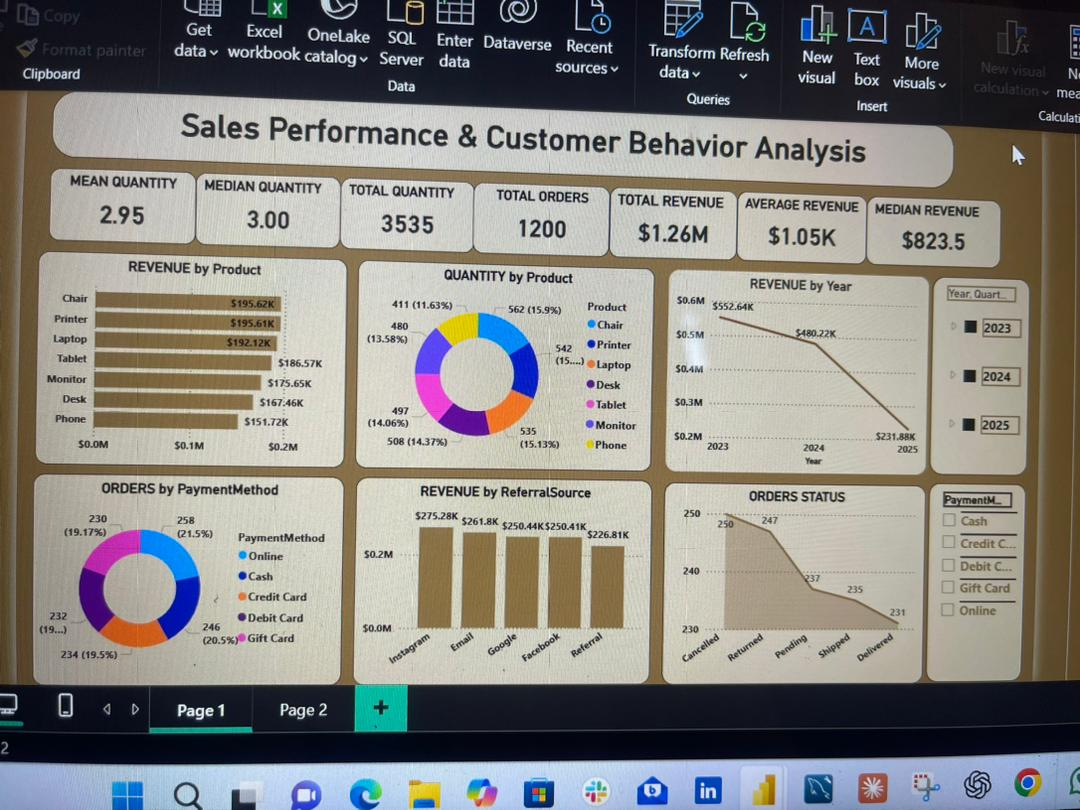

What the dashboard file says about the page in this screenshot:
{"tool":"powerbi","page":{"name":"Page 1","canvas":[1280,720],"ordinal":0},"visuals":[{"type":"card","title":"MEAN QUANTITY","fields":{"Values":["Sheet1.MEAN QUANTITY"]},"box":[32.5,94.3,172.4,87.8],"z":0},{"type":"card","title":"MEDIAN QUANTITY","fields":{"Values":["Sheet1.MEDIAN QUANTITY"]},"box":[204.9,94.3,174,87.8],"z":1000},{"type":"card","title":"TOTAL QUANTITY","fields":{"Values":["Sheet1.TOTAL QUANTITY"]},"box":[379,94.3,164.3,87.8],"z":2000},{"type":"card","title":"TOTAL ORDERS","fields":{"Values":["Sheet1.TOTAL NO OF ORDERS"]},"box":[541.6,94.3,170.8,87.8],"z":3000},{"type":"card","title":"TOTAL REVENUE","fields":{"Values":["Sum(Sheet1.TotalPrice)"]},"box":[712.4,94.3,162.7,87.8],"z":4000},{"type":"card","title":"AVERAGE REVENUE","fields":{"Values":["Sheet1.AVERAGE REVENUE"]},"box":[875.1,94.3,169.2,87.8],"z":5000},{"type":"card","title":"MEDIAN REVENUE","fields":{"Values":["Sheet1.MEDIAN REVENUE"]},"box":[1044.2,94.3,178.9,87.8],"z":6000},{"type":"textbox","box":[32.5,0,1125.6,81.3],"z":7000},{"type":"barChart","title":"REVENUE by Product","fields":{"Y":["Sum(Sheet1.TotalPrice)"],"Category":["Sheet1.Product"]},"box":[21.1,195.2,367.6,257],"z":8000},{"type":"donutChart","title":"QUANTITY by Product","fields":{"Y":["Sum(Sheet1.QUANTITY)"],"Category":["Sheet1.Product"]},"box":[401.8,195.2,369.2,257],"z":9000},{"type":"donutChart","title":"ORDERS by PaymentMethod","fields":{"Y":["Sheet1.TOTAL ORDERS"],"Category":["Sheet1.PaymentMethod"]},"box":[19.5,463.6,369.2,257],"z":10000},{"type":"columnChart","title":" REVENUE by ReferralSource","fields":{"Y":["Sum(Sheet1.TotalPrice)"],"Category":["Sheet1.ReferralSource"]},"box":[403.4,463.6,369.2,257],"z":11000},{"type":"lineChart","title":" REVENUE by Year","fields":{"Y":["Sum(Sheet1.TotalPrice)"],"Category":["Sheet1.Date.Variation.Date Hierarchy.Year","Sheet1.Date.Variation.Date Hierarchy.Month"]},"box":[788.9,195.2,339.9,257],"z":12000},{"type":"slicer","fields":{"Values":["Sheet1.Date.Variation.Date Hierarchy.Year","Sheet1.Date.Variation.Date Hierarchy.Quarter","Sheet1.Date.Variation.Date Hierarchy.Month","Sheet1.Date.Variation.Date Hierarchy.Day"]},"box":[1133.7,195.2,130.1,255.4],"z":13000},{"type":"slicer","fields":{"Values":["Sheet1.PaymentMethod"]},"box":[1134.5,462.1,129.3,256.9],"z":14000},{"type":"areaChart","title":" ORDERS STATUS","fields":{"Category":["Sheet1.OrderStatus"],"Y":["Sheet1.TOTAL ORDERS"]},"box":[788.9,465.2,339.9,255.4],"z":15000}]}

Visuals, with their boxes on the page's 1280x720 design canvas (x1, y1, x2, y2). These are canvas units, not pixel positions in the 1080x810 screenshot, which may show the page scaled, cropped or inside an application window:
"MEAN QUANTITY" card: Rect(32, 94, 205, 182)
"MEDIAN QUANTITY" card: Rect(205, 94, 379, 182)
"TOTAL QUANTITY" card: Rect(379, 94, 543, 182)
"TOTAL ORDERS" card: Rect(542, 94, 712, 182)
"TOTAL REVENUE" card: Rect(712, 94, 875, 182)
"AVERAGE REVENUE" card: Rect(875, 94, 1044, 182)
"MEDIAN REVENUE" card: Rect(1044, 94, 1223, 182)
textbox: Rect(32, 0, 1158, 81)
"REVENUE by Product" barChart: Rect(21, 195, 389, 452)
"QUANTITY by Product" donutChart: Rect(402, 195, 771, 452)
"ORDERS by PaymentMethod" donutChart: Rect(20, 464, 389, 721)
" REVENUE by ReferralSource" columnChart: Rect(403, 464, 773, 721)
" REVENUE by Year" lineChart: Rect(789, 195, 1129, 452)
slicer - Sheet1.Date.Variation.Date Hierarchy.Year x Sheet1.Date.Variation.Date Hierarchy.Quarter: Rect(1134, 195, 1264, 451)
slicer - Sheet1.PaymentMethod: Rect(1134, 462, 1264, 719)
" ORDERS STATUS" areaChart: Rect(789, 465, 1129, 721)
